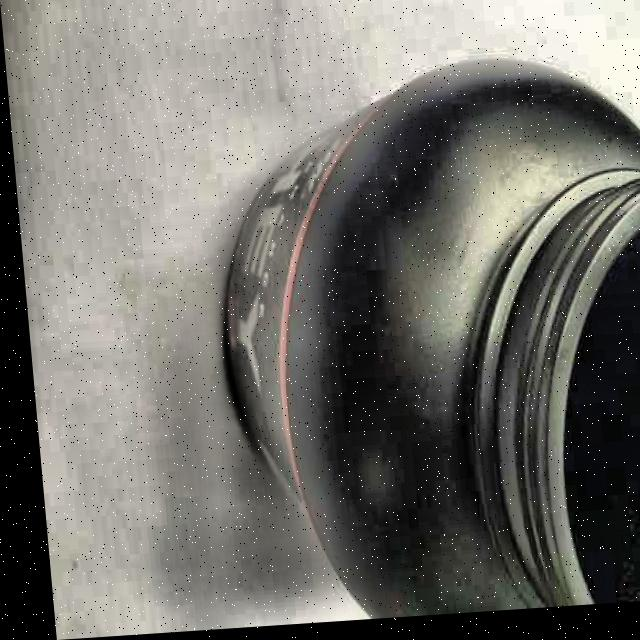plastic: (198, 42, 640, 627)
